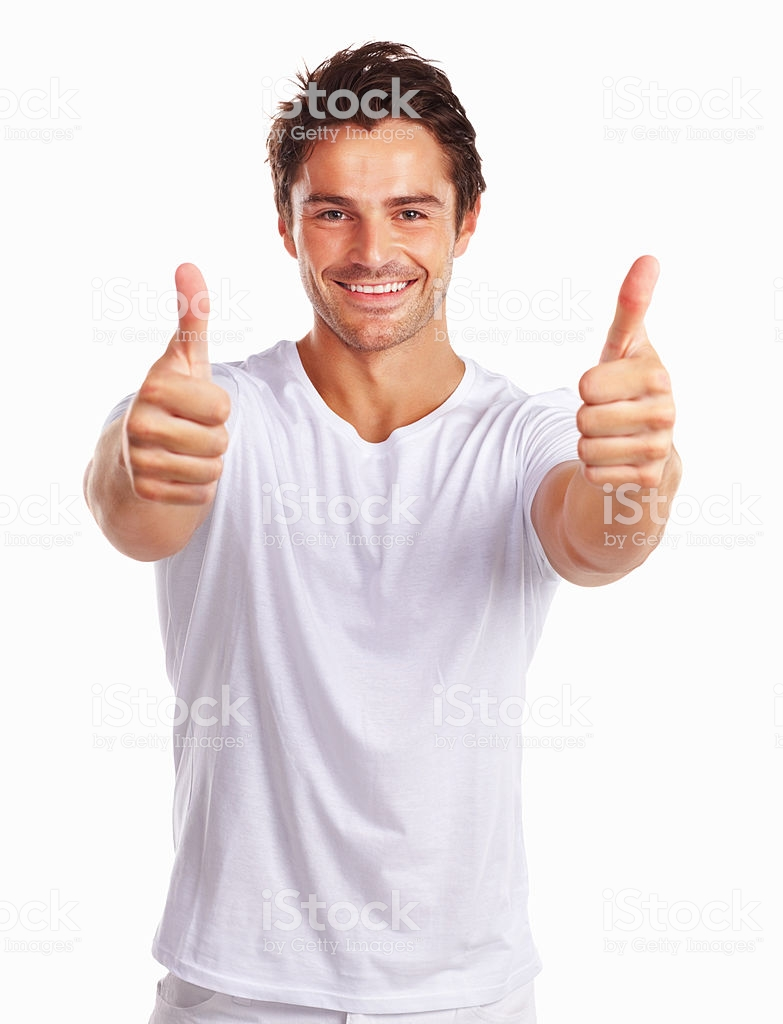thumbsup: (125, 261, 231, 508), (576, 253, 676, 490)
